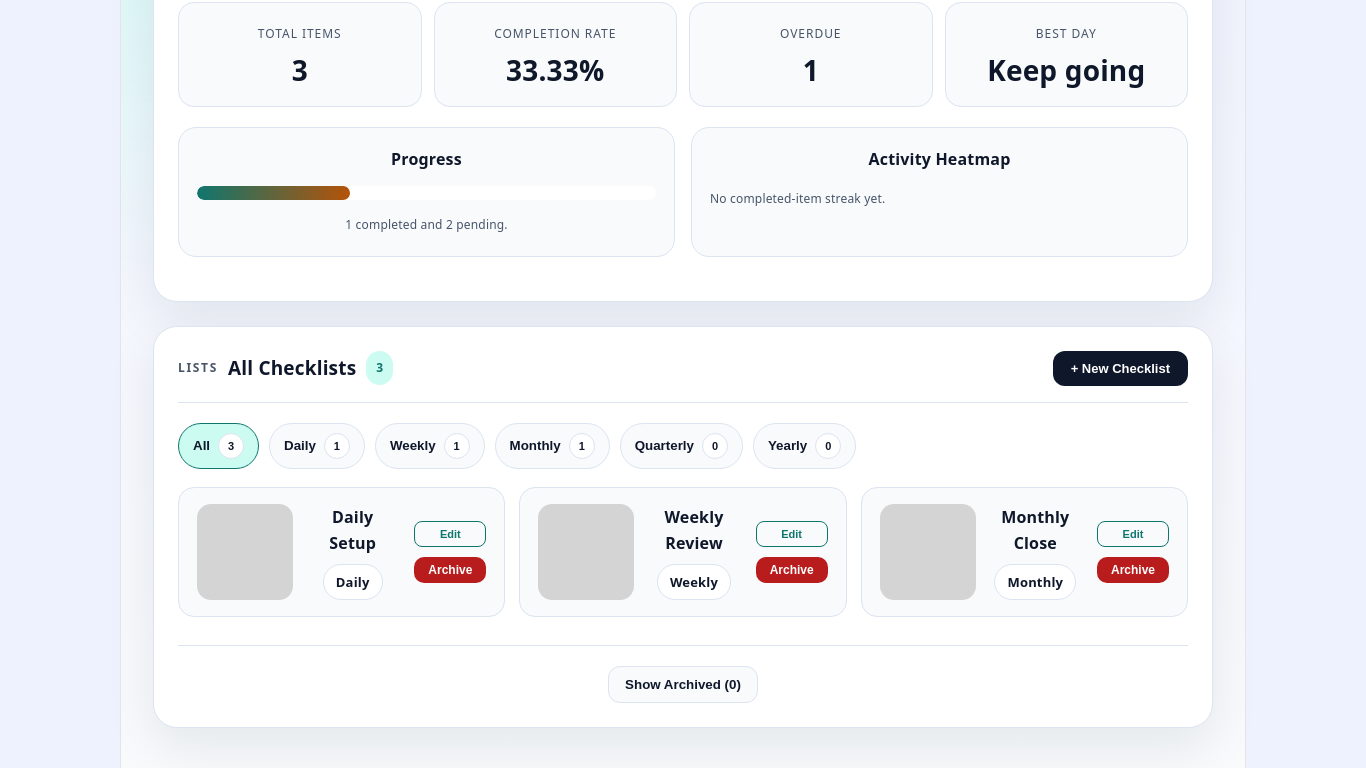
Dashboard › filters checklists by type and shows count badges
(page scrolled)
Expected: the text "Daily Setup" is shown, x1=329 y1=506 x2=376 y2=554
Expected: the text "Weekly Review" is shown, x1=664 y1=506 x2=724 y2=554
Click the button "Weekly 1" at (430, 446), box x1=375 y1=423 x2=485 y2=469
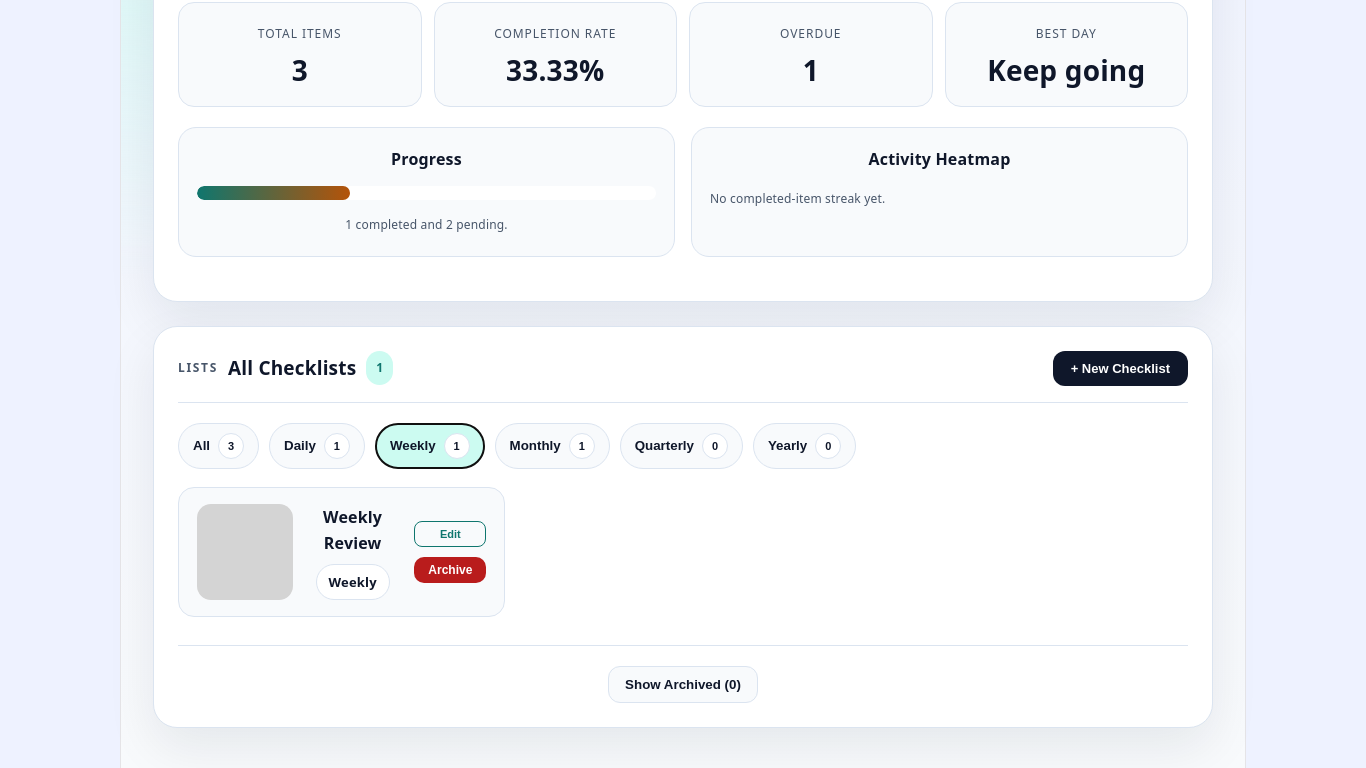
Expected: the text "Weekly Review" is shown, x1=323 y1=506 x2=382 y2=554
Result: the text "Daily Setup" is gone
Result: the text "Monthly Close" is gone
